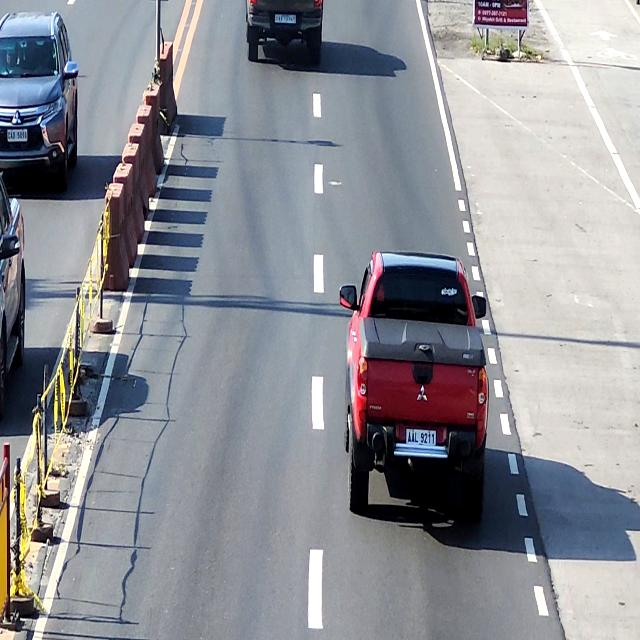Car: (340, 248, 490, 530), (0, 10, 78, 187), (0, 177, 26, 422), (245, 0, 323, 63)
License-Plate: (406, 429, 436, 446), (7, 129, 27, 142), (275, 13, 296, 24)
